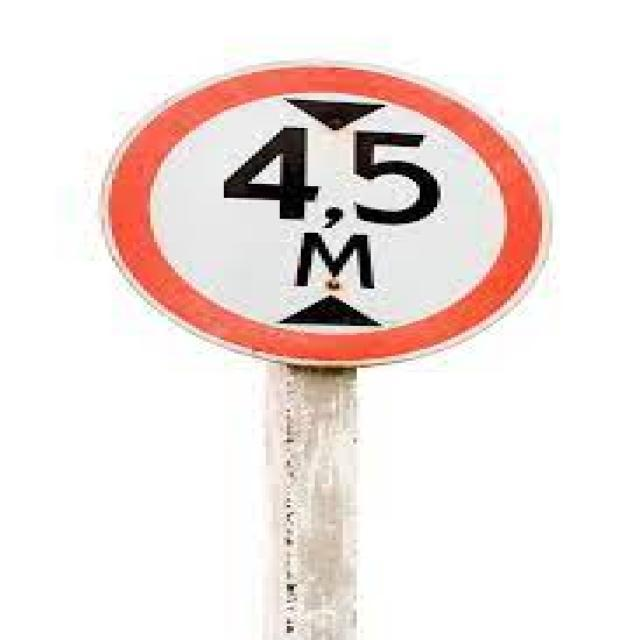height limit: (92, 60, 551, 364)
